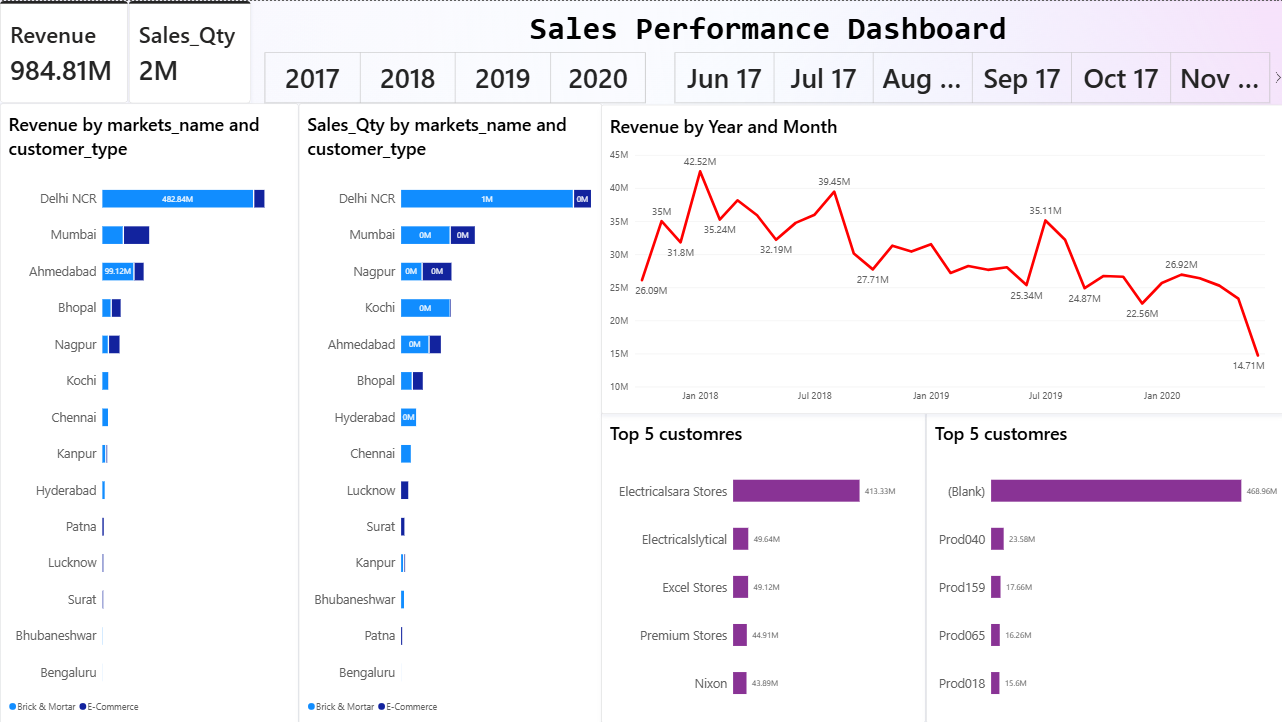

The dashboard page shown, as its layout file describes it:
{"tool":"powerbi","page":{"name":"Key Insights","canvas":[1920,1080],"ordinal":0},"visuals":[{"type":"cardVisual","fields":{"Data":["Base_Measure.Revenue"]},"box":[0,0,191.4,152.3],"z":0},{"type":"cardVisual","fields":{"Data":["Base_Measure.Sales_Qty"]},"box":[192.2,0,182.9,153],"z":1000},{"type":"barChart","fields":{"Category":["sales markets.markets_name"],"Series":["sales customers.customer_type"],"Y":["Base_Measure.Revenue"]},"box":[0,152.8,445.4,927.6],"z":2000},{"type":"barChart","fields":{"Category":["sales markets.markets_name"],"Series":["sales customers.customer_type"],"Y":["Base_Measure.Sales_Qty"]},"box":[445.4,152.8,452.8,927.6],"z":3000},{"type":"advancedSlicerVisual","fields":{"Values":["sales date.year"]},"box":[375.1,76.5,612,76.5],"z":4000},{"type":"advancedSlicerVisual","fields":{"Values":["sales date.cy_date"]},"box":[987.1,76.5,933,76.5],"z":5000},{"type":"barChart","title":"Top 5 customres","fields":{"Category":["sales customers.custmer_name"],"Y":["Base_Measure.Revenue"]},"box":[898.2,614.7,484.1,465.6],"z":6000},{"type":"barChart","title":"Top 5 customres","fields":{"Category":["sales products.product_code"],"Y":["Base_Measure.Revenue"]},"box":[1382.2,614.7,537.4,465.6],"z":7000},{"type":"lineChart","fields":{"Category":["sales date.cy_date.Variation.Date Hierarchy.Year","sales date.cy_date.Variation.Date Hierarchy.Month"],"Y":["Base_Measure.Revenue"]},"box":[898.2,154.6,1021.5,462],"z":8000},{"type":"textbox","box":[375.1,13.1,1543.1,63.4],"z":8001}]}

Visuals, with their boxes in screenshot pixels (x1, y1, x2, y2), scaled from the page's 1920x1080 canvas onto the 1282x722 screenshot:
cardVisual - Base_Measure.Revenue: (left=0, top=0, right=128, bottom=102)
cardVisual - Base_Measure.Sales_Qty: (left=128, top=0, right=250, bottom=102)
barChart - sales markets.markets_name x sales customers.customer_type: (left=0, top=102, right=297, bottom=721)
barChart - sales markets.markets_name x sales customers.customer_type: (left=297, top=102, right=600, bottom=721)
advancedSlicerVisual - sales date.year: (left=250, top=51, right=659, bottom=102)
advancedSlicerVisual - sales date.cy_date: (left=659, top=51, right=1281, bottom=102)
"Top 5 customres" barChart: (left=600, top=411, right=923, bottom=721)
"Top 5 customres" barChart: (left=923, top=411, right=1281, bottom=721)
lineChart - sales date.cy_date.Variation.Date Hierarchy.Year x sales date.cy_date.Variation.Date Hierarchy.Month: (left=600, top=103, right=1281, bottom=412)
textbox: (left=250, top=9, right=1281, bottom=51)
